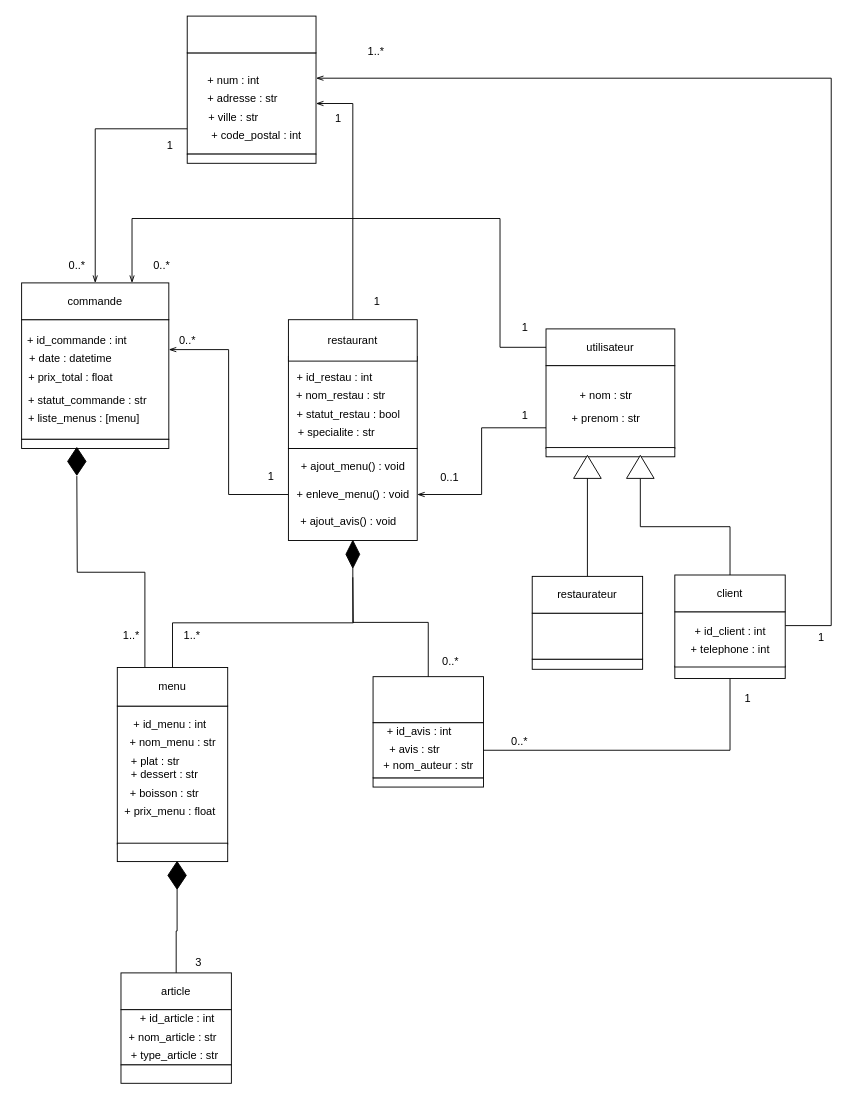
Some shapes in this 855 by 1099 pixel diagram are drawn without their labels. The centre of each missing label's shape, as x and y in pixels:
+ id_restaurateur : int: the point at 587,635
adresse: the point at 251,34
avis: the point at 427,699
